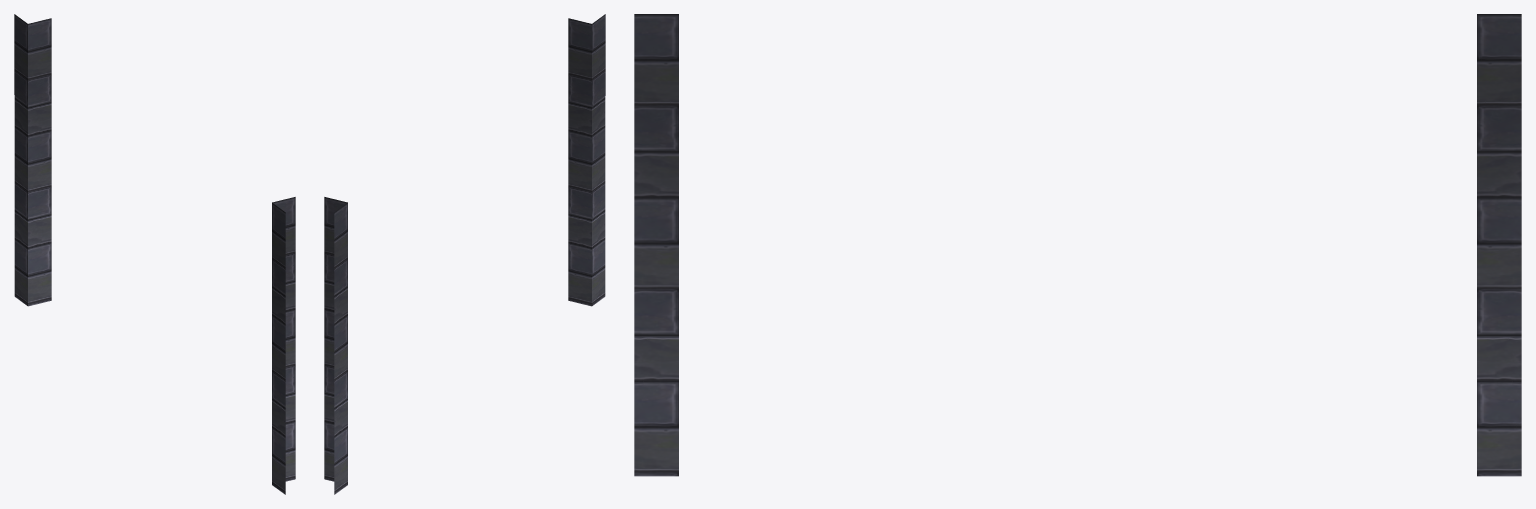
The model's file is dungeon_wall_corners2.FBX.
3 renders of one model, left to right at view 1: azimuth 30°, elevation 25°; view 2: azimuth 150°, elevation 25°; view 3: azimuth 270°, elevation 25°, orthographic. The views are drawn at different scales.
Parts seen in each view (by area): view 1: wall_corners; view 2: wall_corners; view 3: wall_corners.
Boxes of the visible parts, x1,y1,x2,y2 form: wall_corners: [14, 14, 295, 494]; wall_corners: [324, 14, 605, 494]; wall_corners: [634, 14, 1521, 476].
Size of the model in its own units: 50.11 by 575 by 1000.
Materials: 1 (1 with a texture image).
